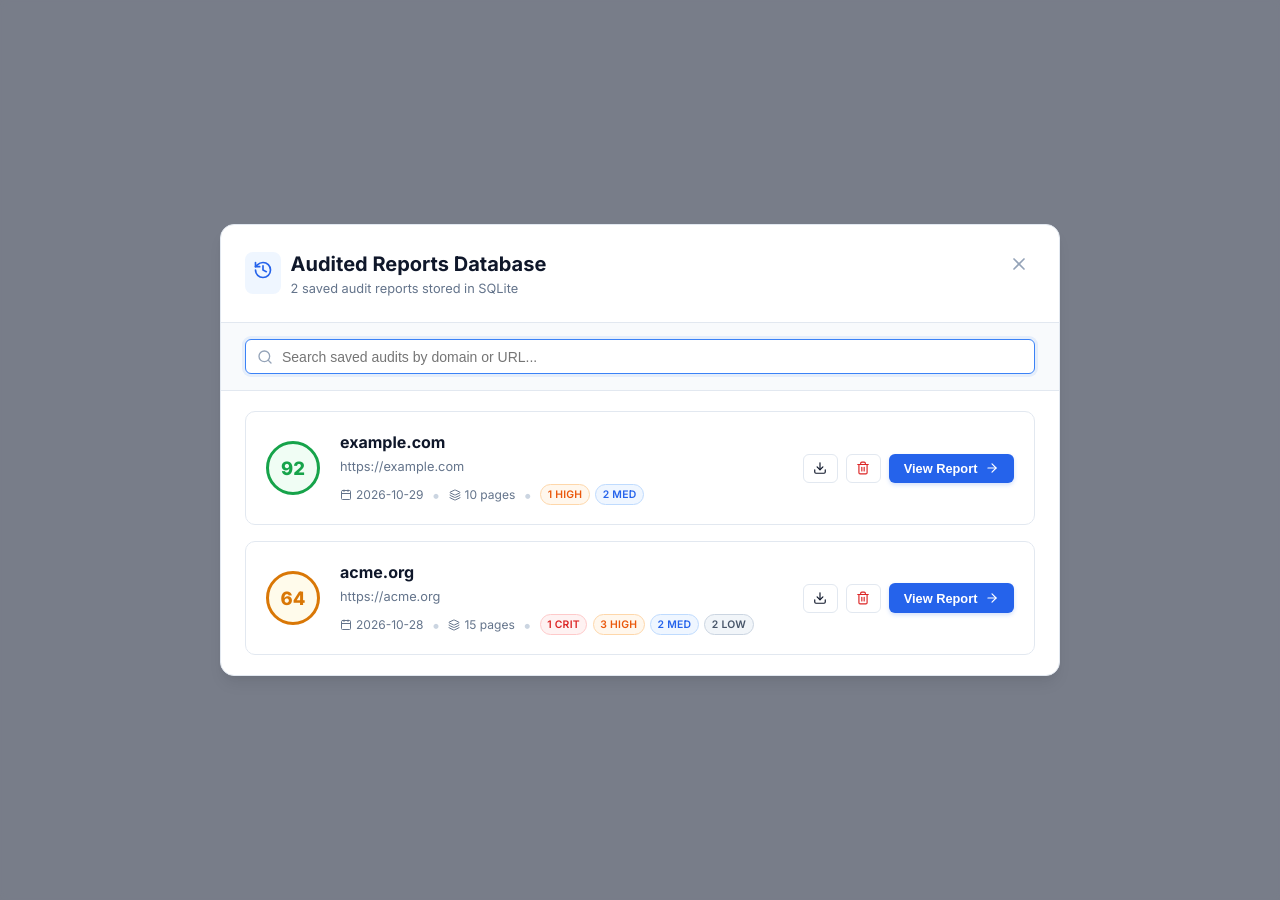
Scenario: AuditHistoryModal component › filters history list by search input
In the field with placeholder "Search saved audits by domain or URL...": (640, 357) left=245, top=339, right=1035, bottom=374, type "acme"
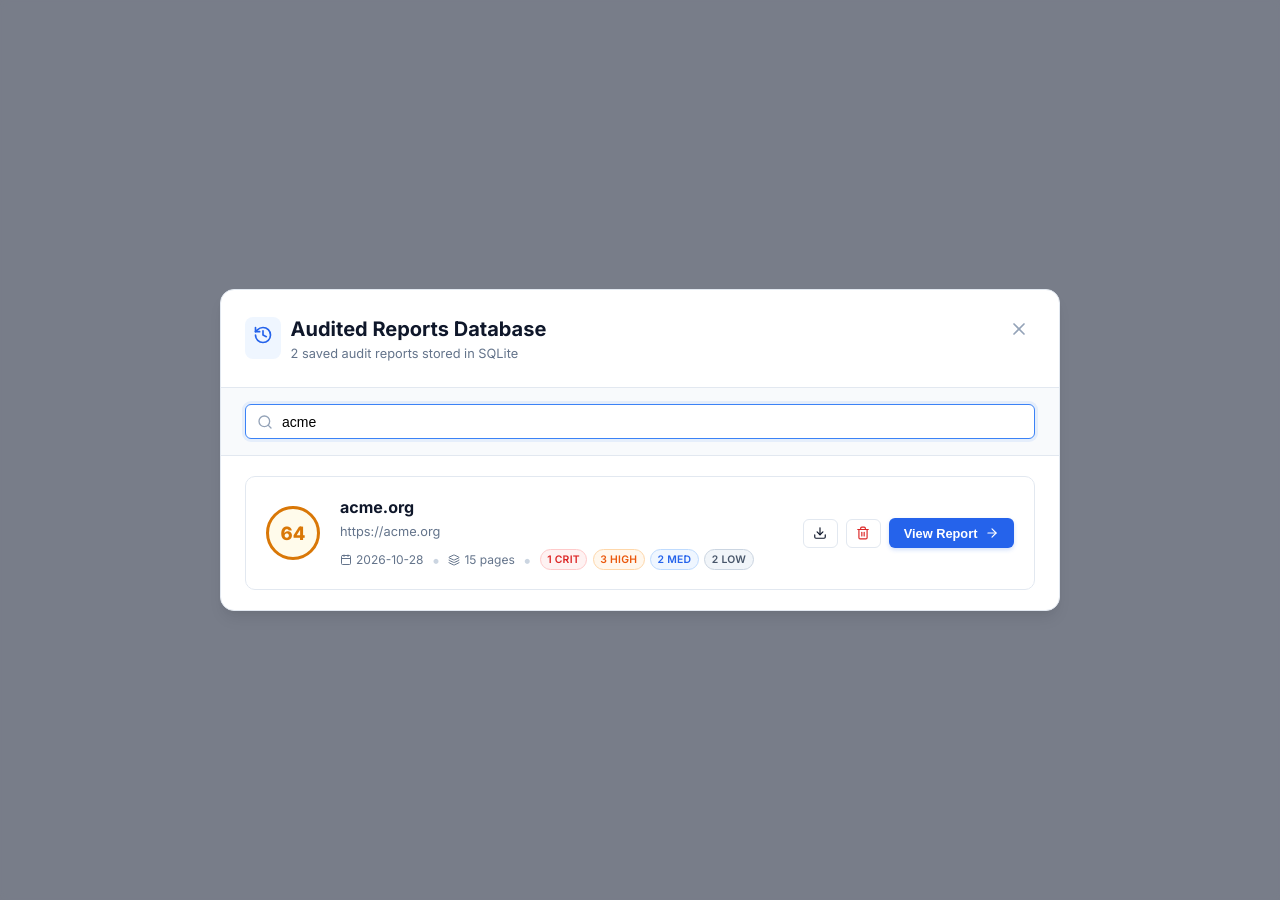
Check: the text "acme.org" is shown, box left=340, top=495, right=414, bottom=519
Check: the text "example.com" is gone
